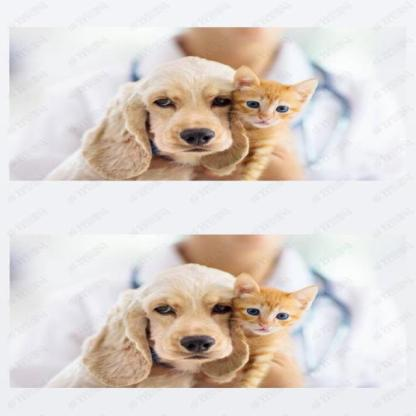cat: (234, 61, 326, 179), (230, 272, 319, 389)
dog: (78, 264, 240, 383), (84, 56, 233, 180)
